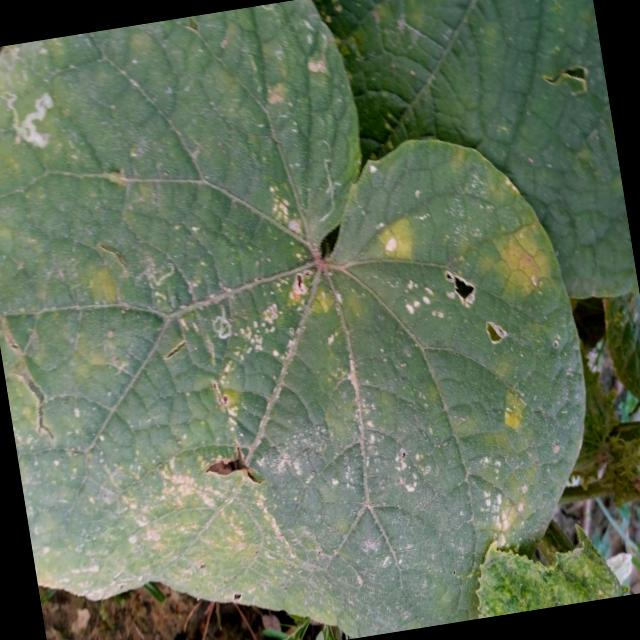cucumber_downy: (0, 99, 620, 635)
